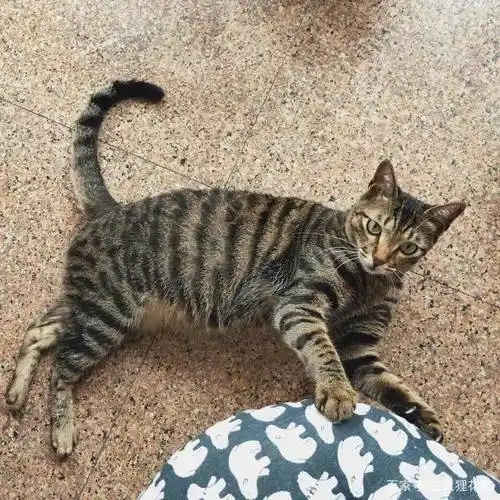狸花猫: (268, 160, 464, 438)
